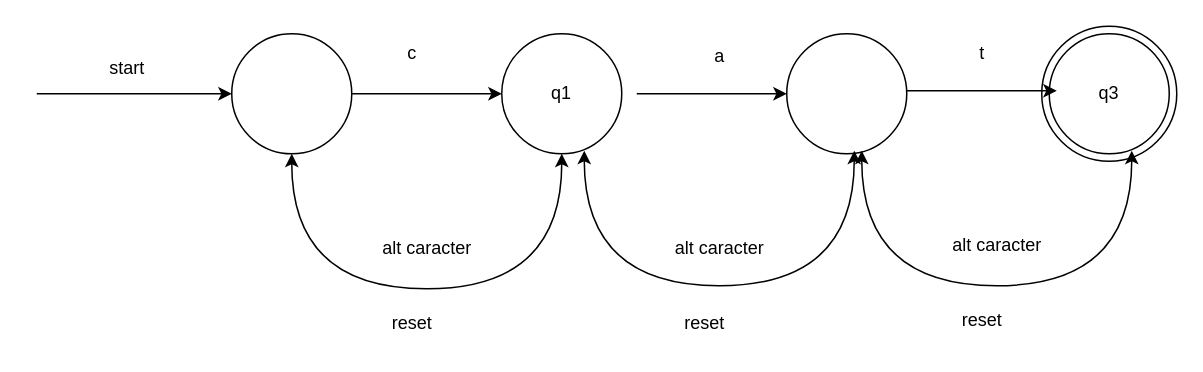
This 1203x372 diagram has some shape labels left out. Here are the shapes that lost their labels. From the top down, the centre of each, then its label:
At [291,93]: "q0".
At [846,93]: "q2".
